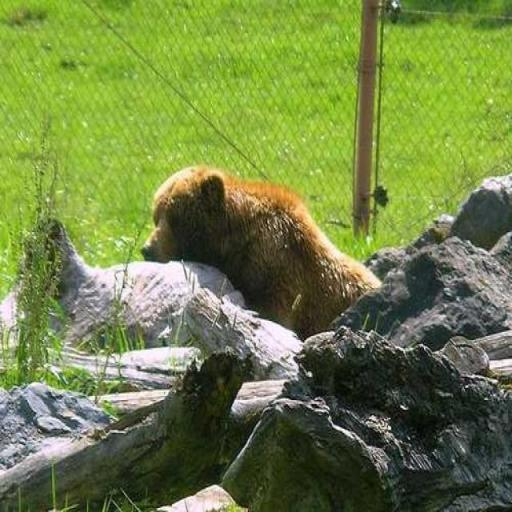Bear: (139, 164, 383, 341)
